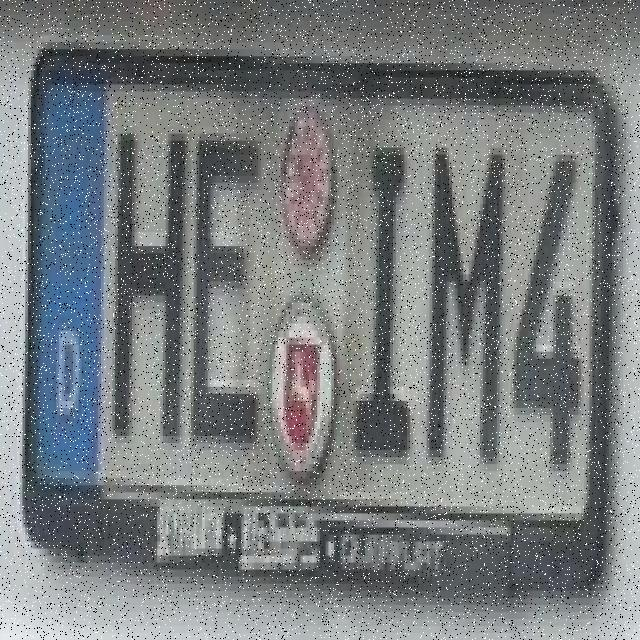licenseplate: (22, 31, 616, 630)
